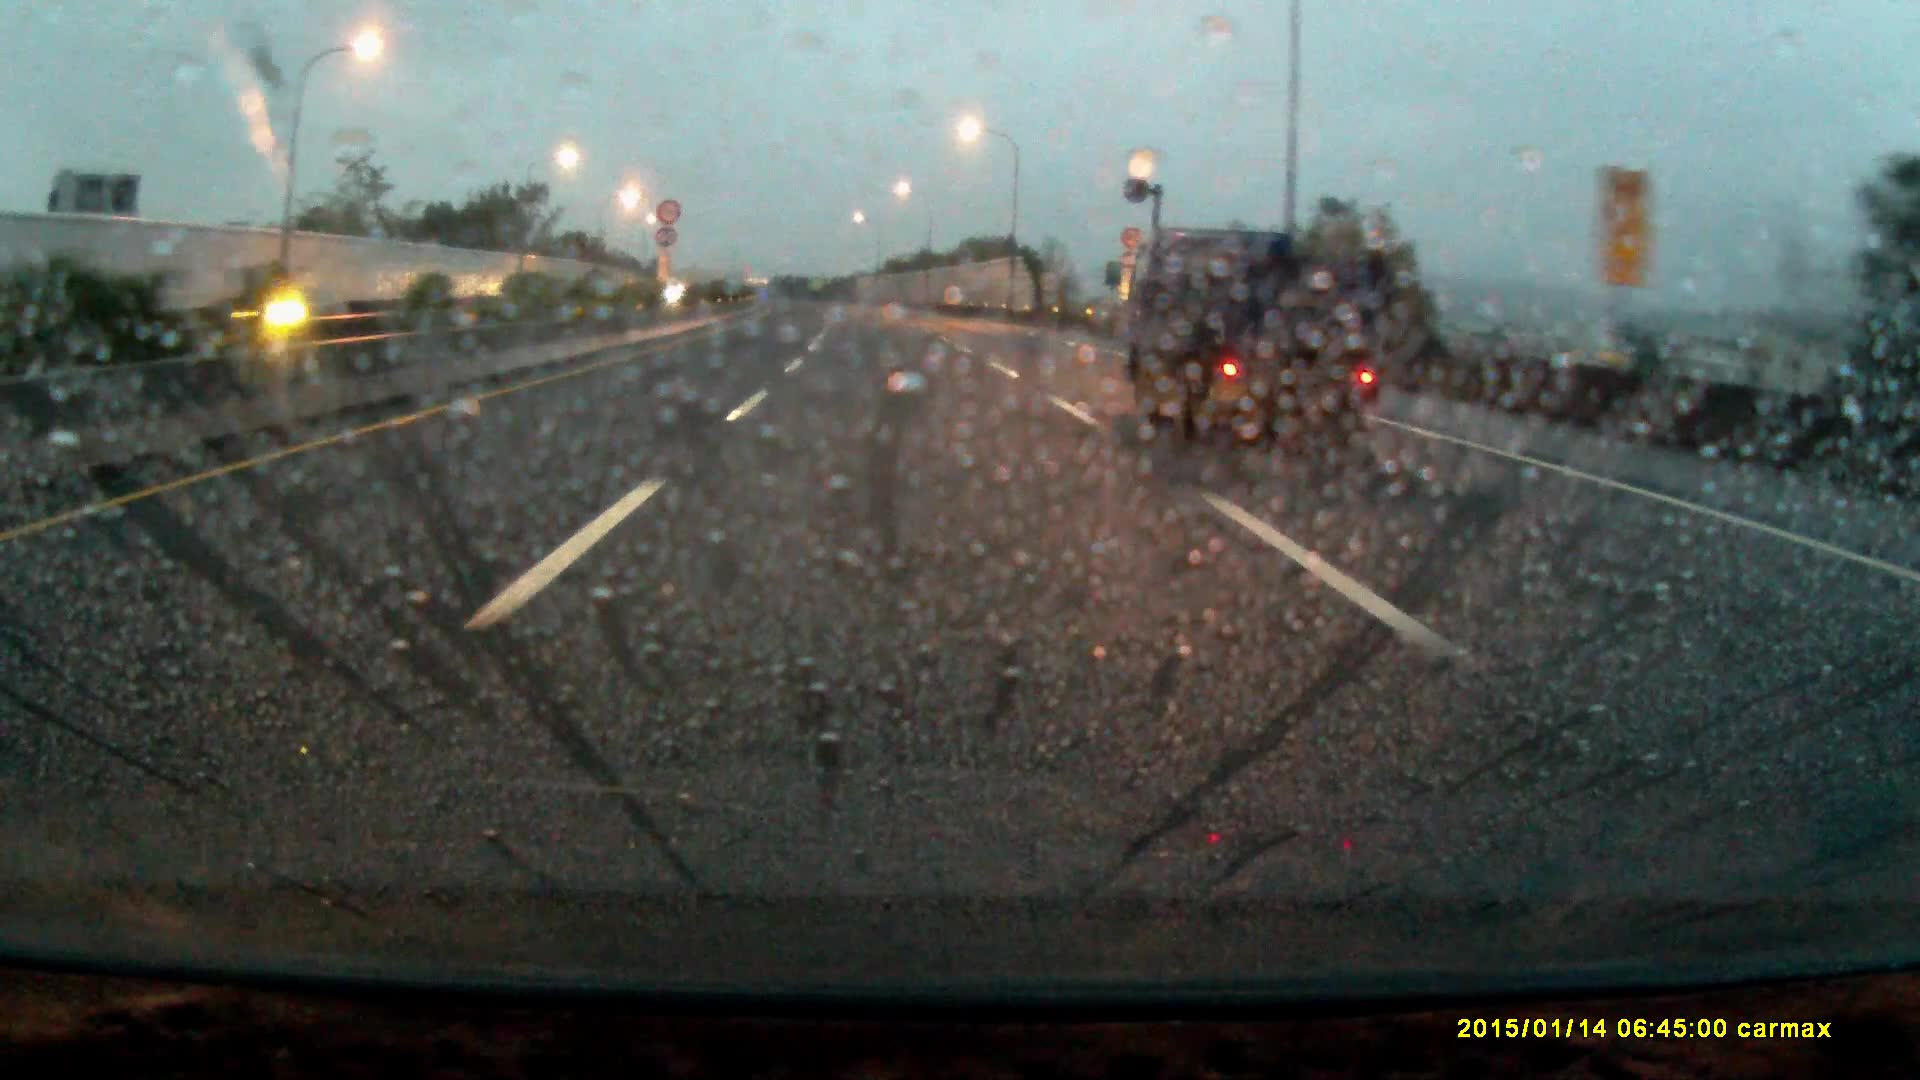vehicle: (1135, 227, 1393, 483), (222, 287, 327, 331)
